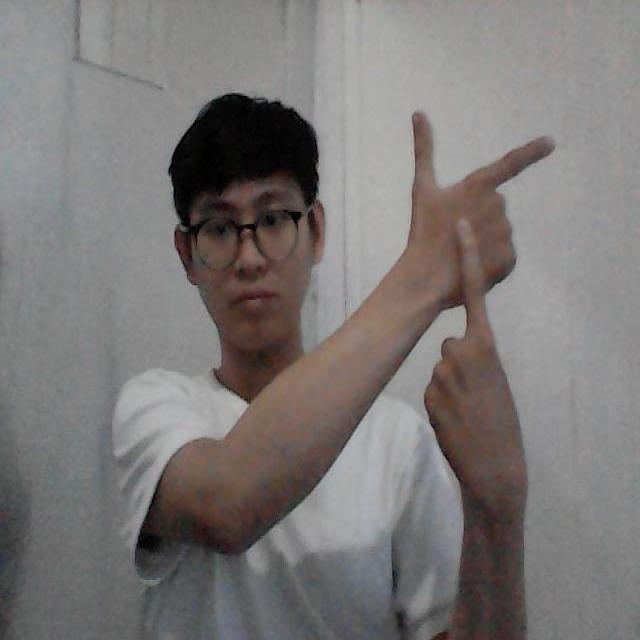Y: (400, 102, 560, 504)
